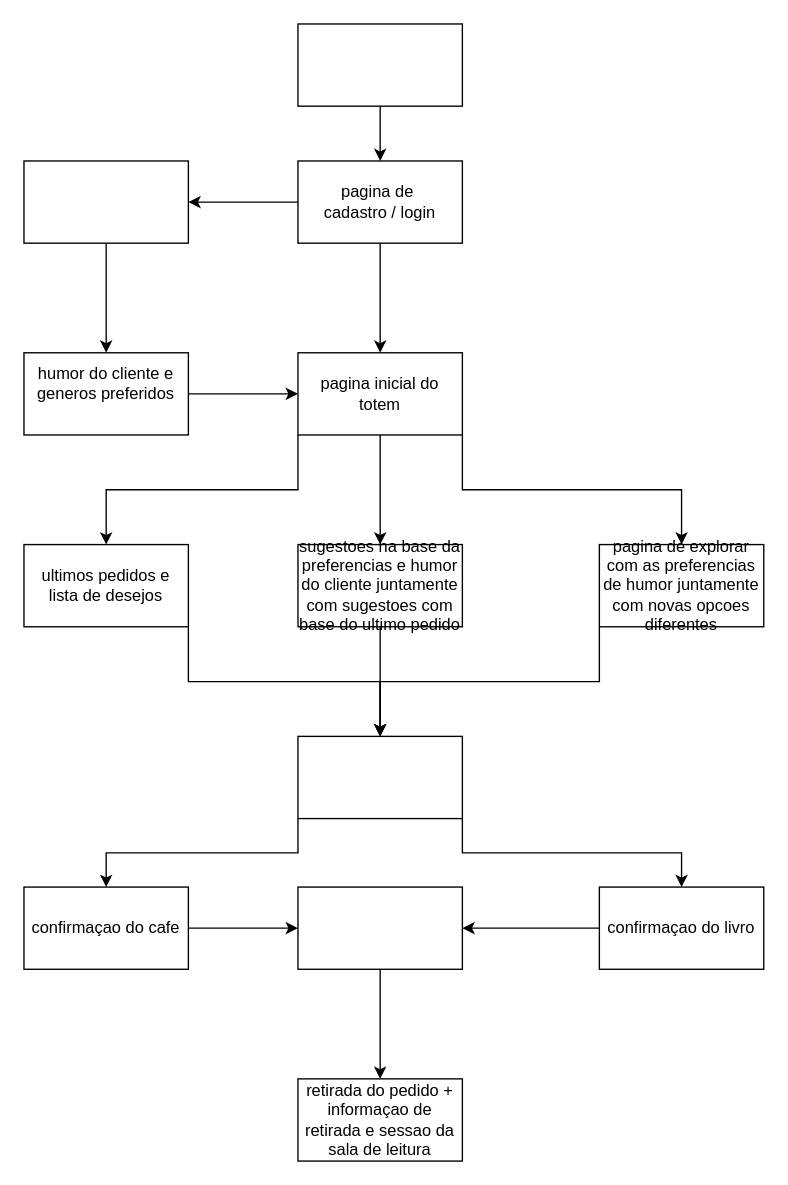
Image size: 788x1185. Some labels were removed from this diagram. The centre of each missing label's shape, as x and y in pixels:
carrinho de pedido: [379,777]
criaçao de conta preferencias e dados do cliente: [105,201]
formas de pagamentos + cupons de desconto: [379,927]
pagina de inicio saudacoes do totem: [379,64]
